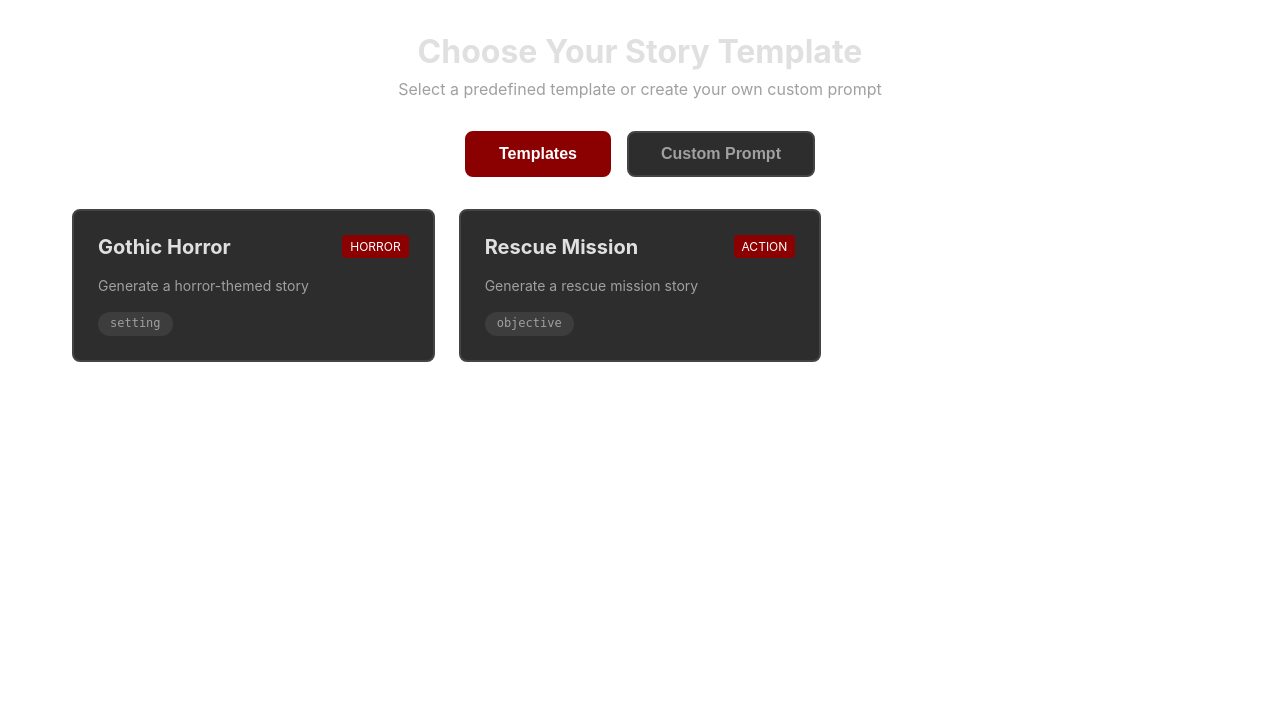
Scenario: TemplateGallery › switches back to templates from custom prompt
expect the heading "Gothic Horror" is shown: met, box [98,235,231,259]
What coordinates should you click on to do the following:
click the button "Custom Prompt"
I would click on:
 (721, 154)
Its box is [627,131,815,177].
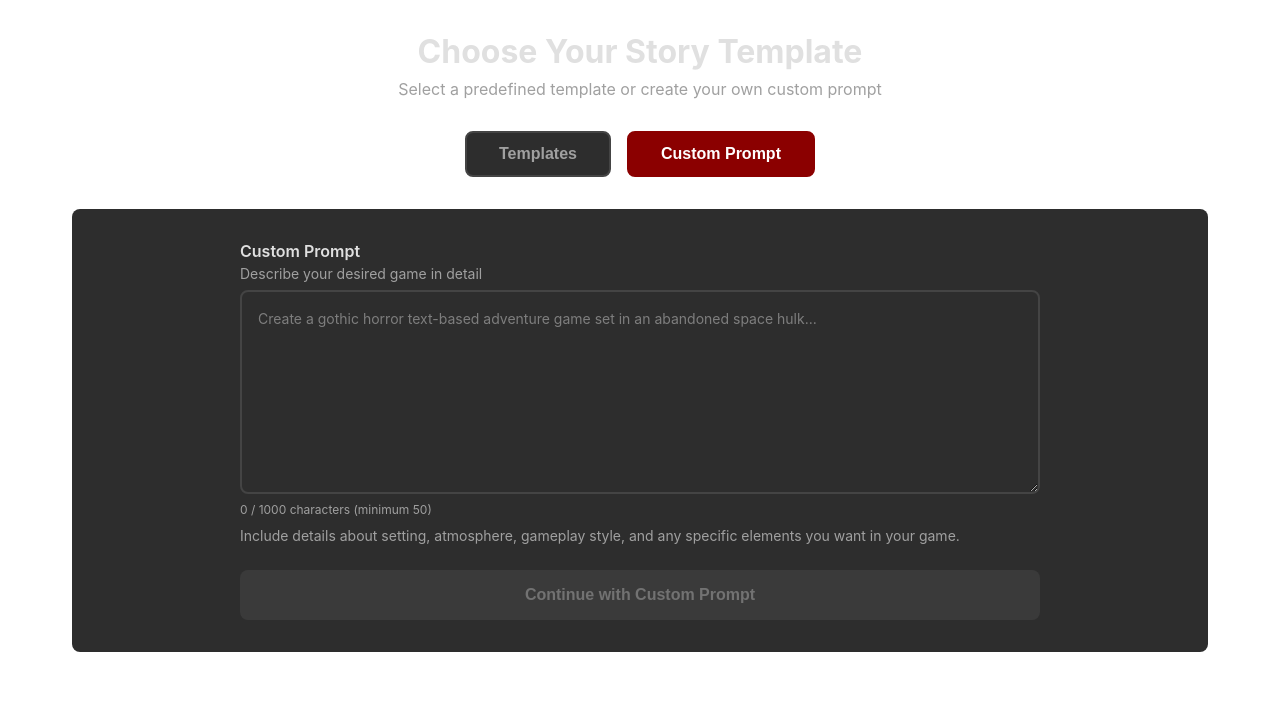
expect the text box labelled "Custom Prompt Describe your desired game in detail" is shown: met, box [240,290,1040,494]
What coordinates should you click on to do the following:
click the button "Templates"
I would click on:
 (538, 154)
Its box is [465,131,611,177].
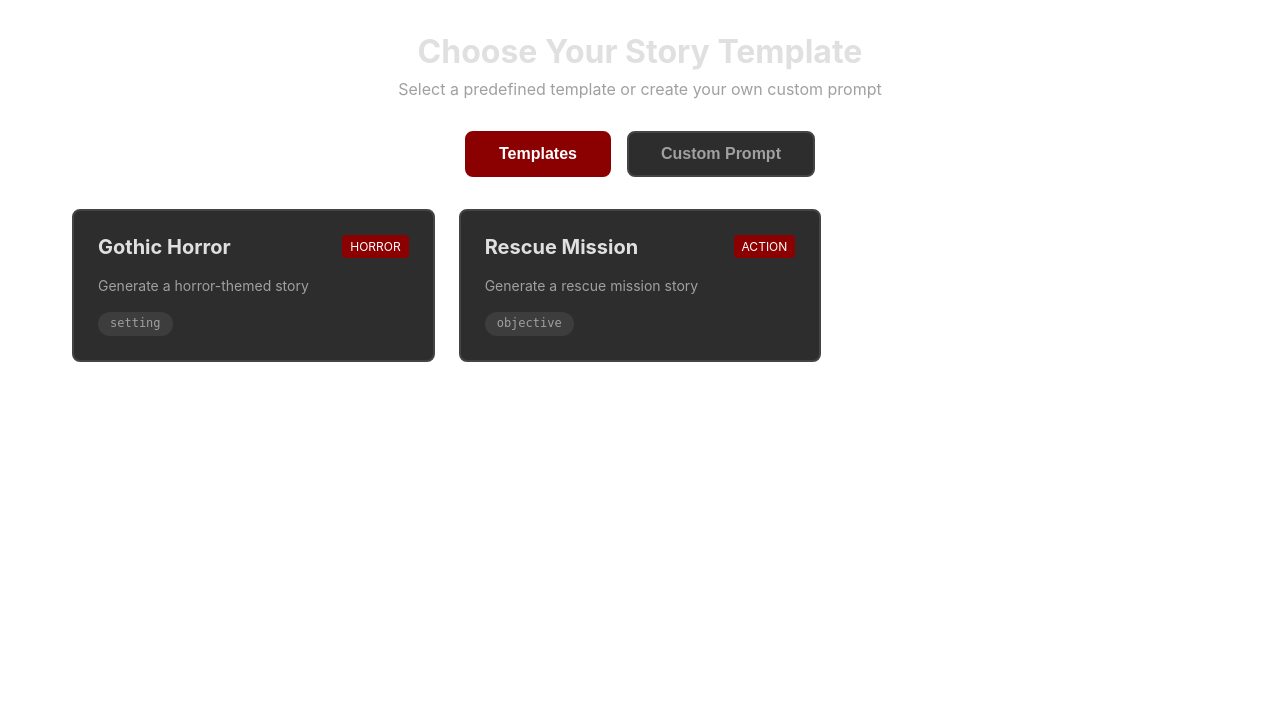
expect the heading "Gothic Horror" is shown: met, box [98,235,231,259]
